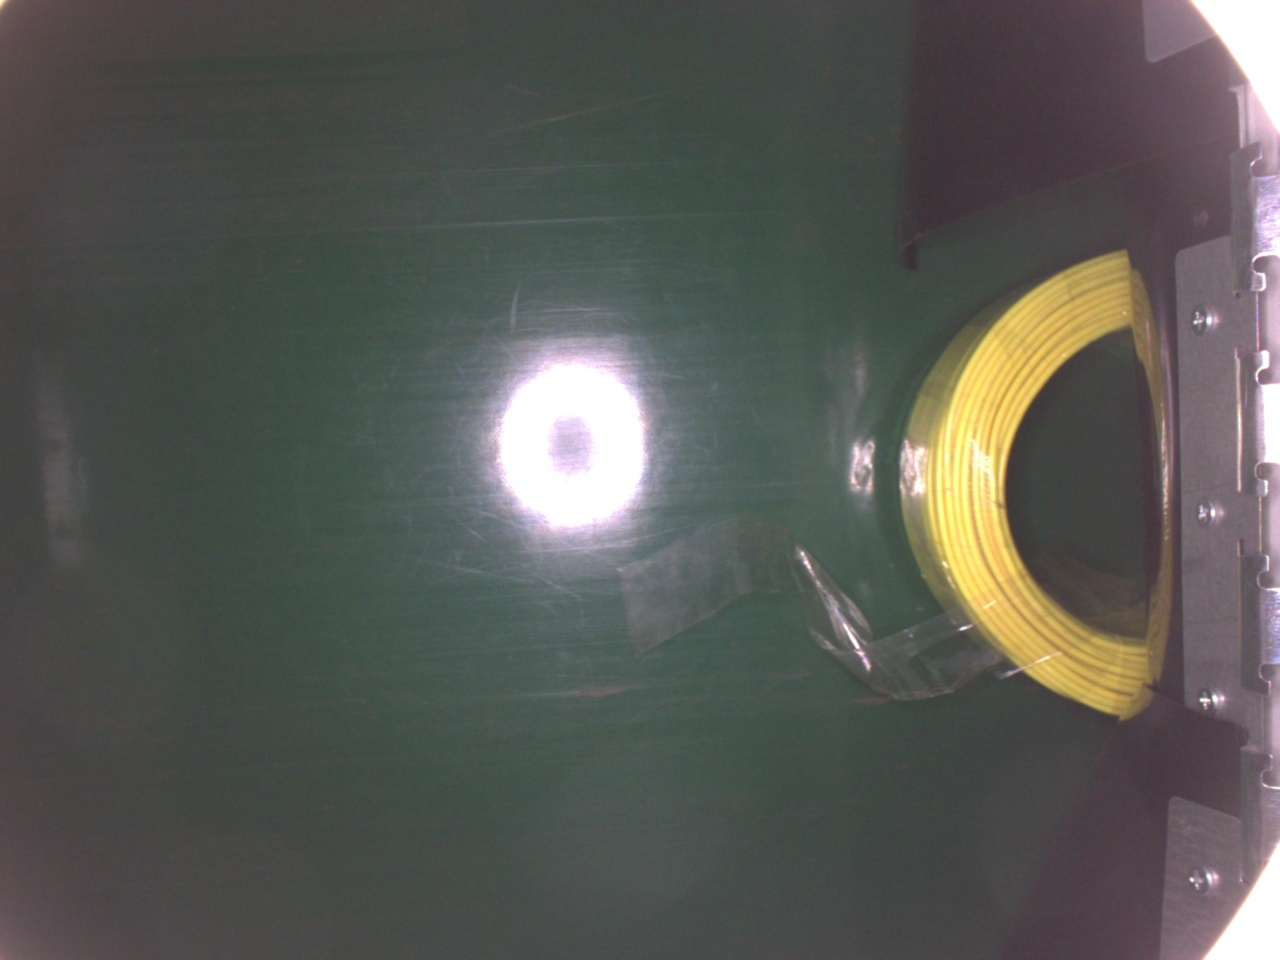yellow: (897, 243, 1141, 718)
